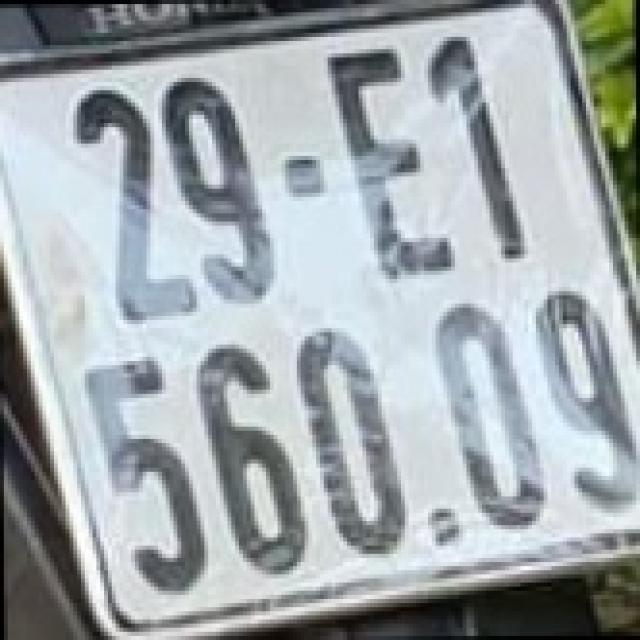0: (430, 294, 553, 532), (301, 322, 416, 556)
1: (432, 31, 540, 264)
2: (68, 82, 198, 324)
6: (85, 347, 208, 592), (196, 338, 308, 572)
9: (166, 72, 285, 310), (536, 287, 640, 513)
E: (322, 39, 457, 281)
